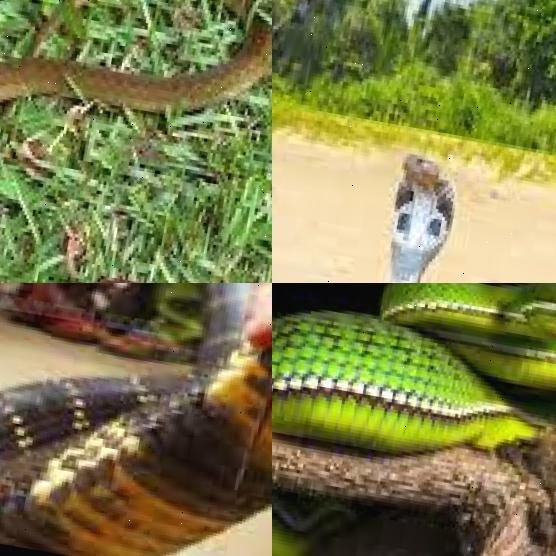snake: (272, 283, 556, 556), (0, 0, 272, 283), (0, 283, 272, 556), (272, 106, 501, 283)
